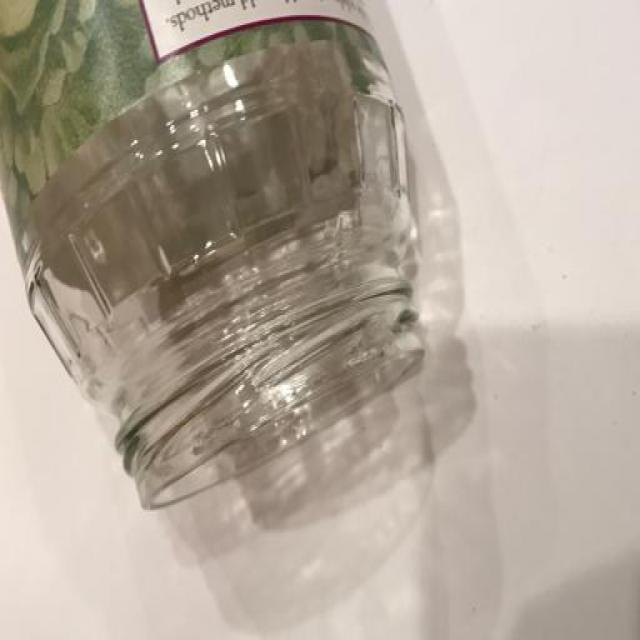glass: (5, 4, 462, 530)
